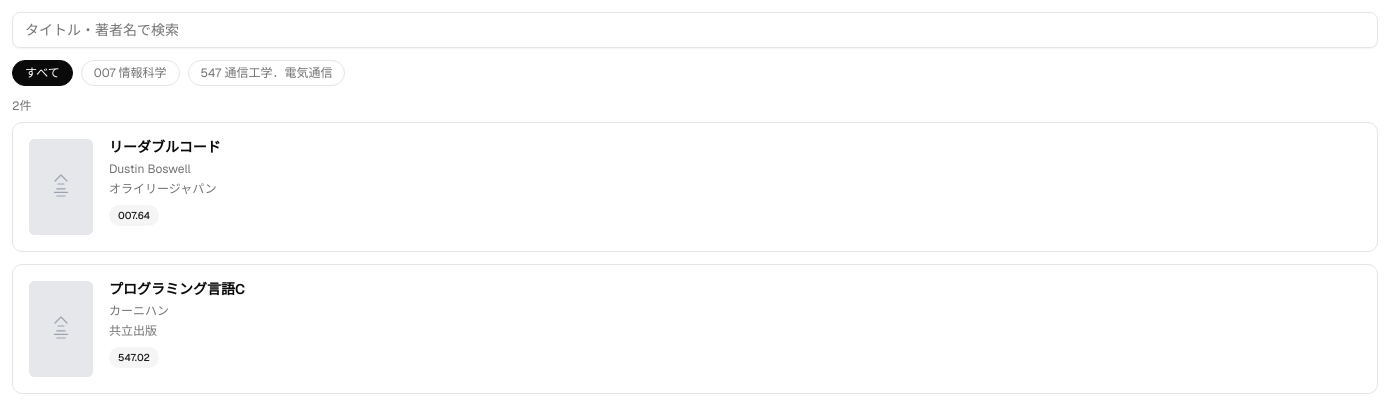
Scenario: BookList › NdcFilterで分類を選択するとNDCでフィルタリングされる
This screenshot has width=1390, height=411.
Click the button "007 情報科学".
click(130, 73)  # box [81,60,180,86]
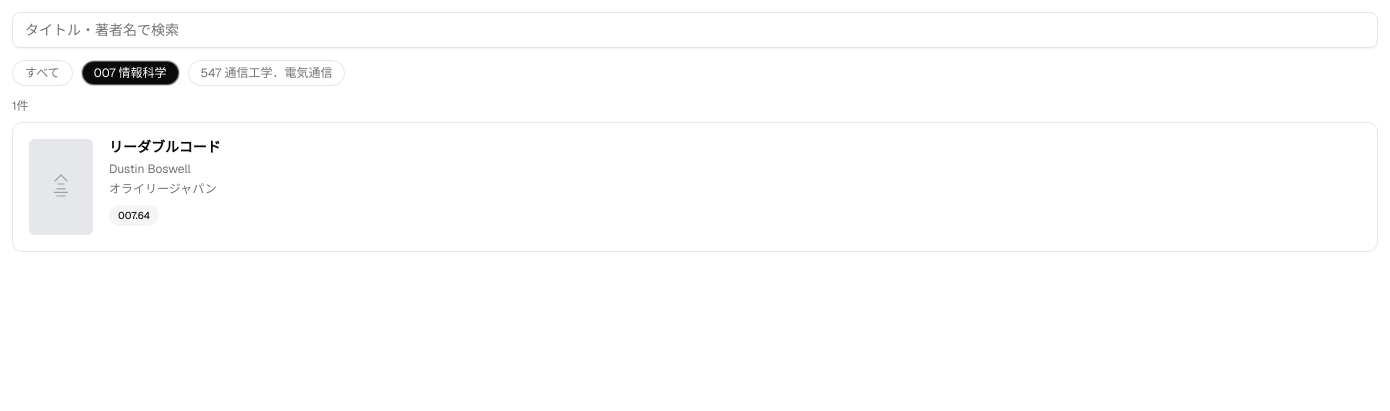
Expected: the text "リーダブルコード" is shown, [109,139,221,156]
Expected: the text "プログラミング言語C" is gone
